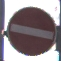No entry: (6, 5, 56, 56)
